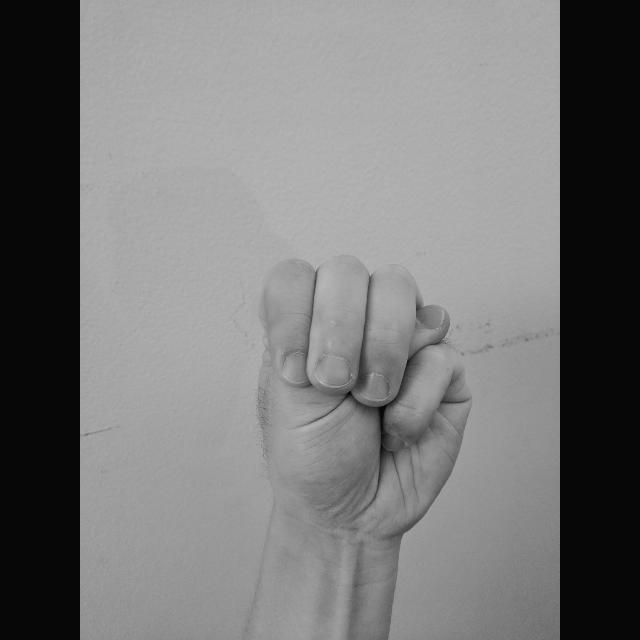M: (248, 250, 480, 542)
